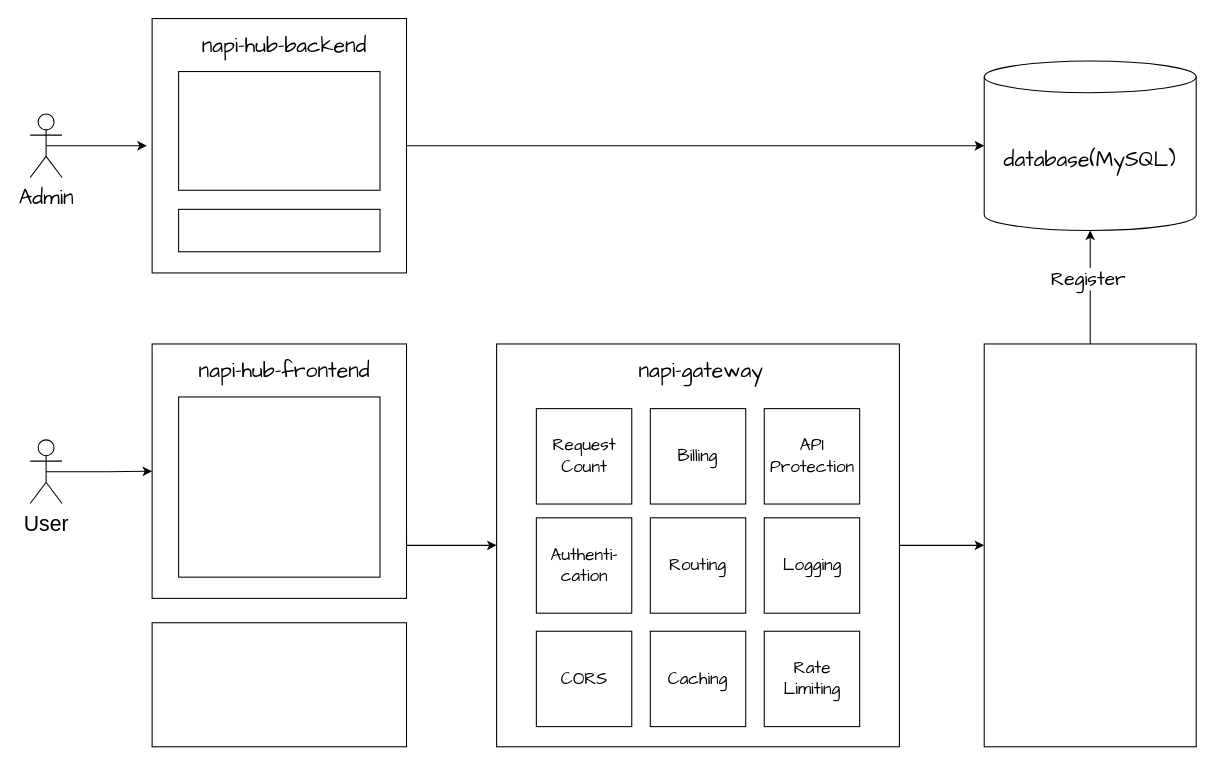
The diagram is 1215 pixels wide and 765 high, and some of its shapes have lost their labels. The shapes that lost their labels are listed below. From the top down, each one's centre as x and y in pixels, then its label:
(279,130): API Publication API Offline API Settings API Management
(279,230): Analytics and Reporting
(279,486): API Discovery API Subscription API Online Request
(1089,545): napi-interface (Provide essential APIs for powering the npi-hub platform)
(279,684): napi-client-sdk (Streamline API integration with our user-friendly SDK)
